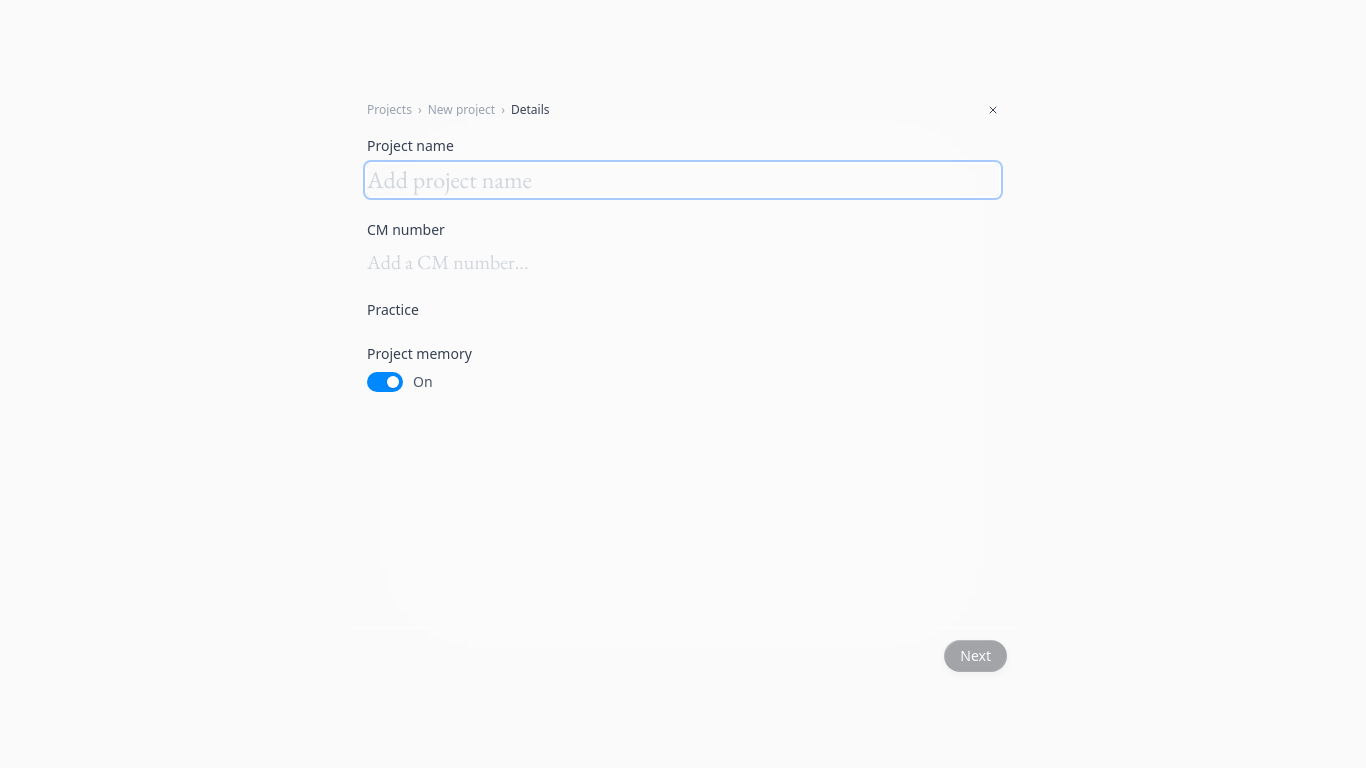
NewProjectModal sharing › labels project memory once, and reads On or Off beside the switch
This screenshot has width=1366, height=768.
expect the text "Project memory" is shown: met, box top-left (367, 344), bottom-right (472, 363)
Click the switch named "Enable project memory".
click(400, 382)  # box top-left (367, 372), bottom-right (433, 392)
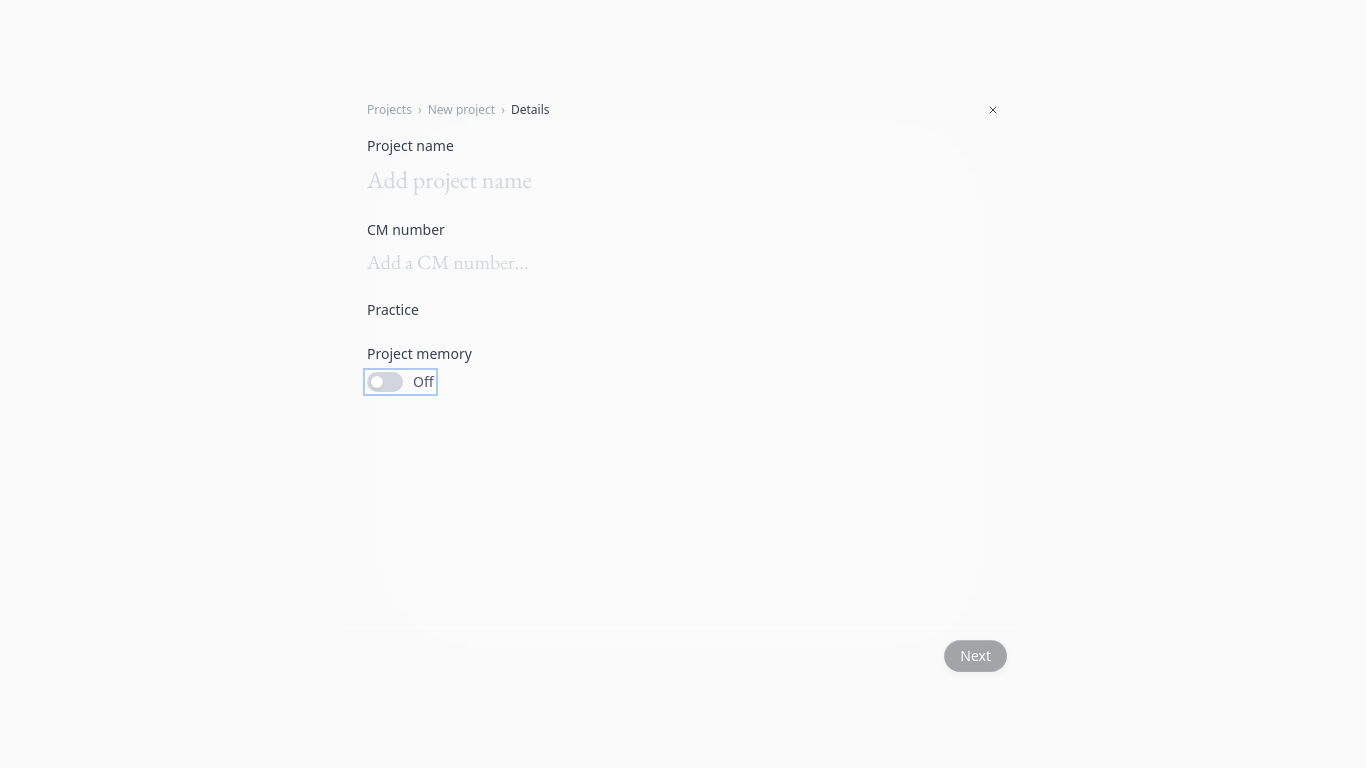
expect the switch named "Enable project memory" reads "Off": met, box top-left (367, 372), bottom-right (434, 392)
